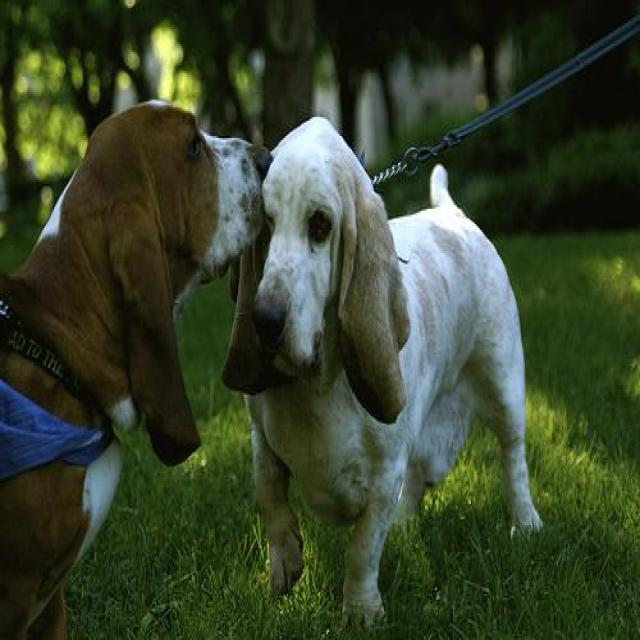basset: (238, 115, 547, 627), (3, 98, 270, 638)
